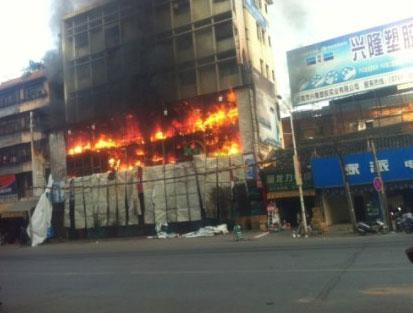fire: (64, 103, 242, 162)
